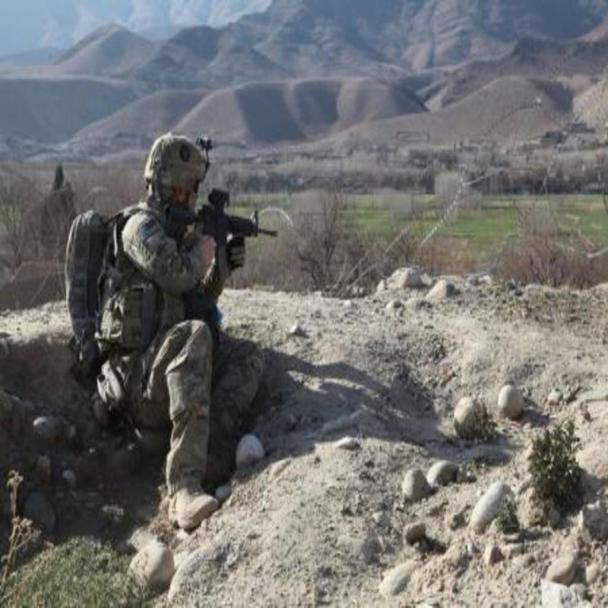Gun: (193, 184, 277, 271)
